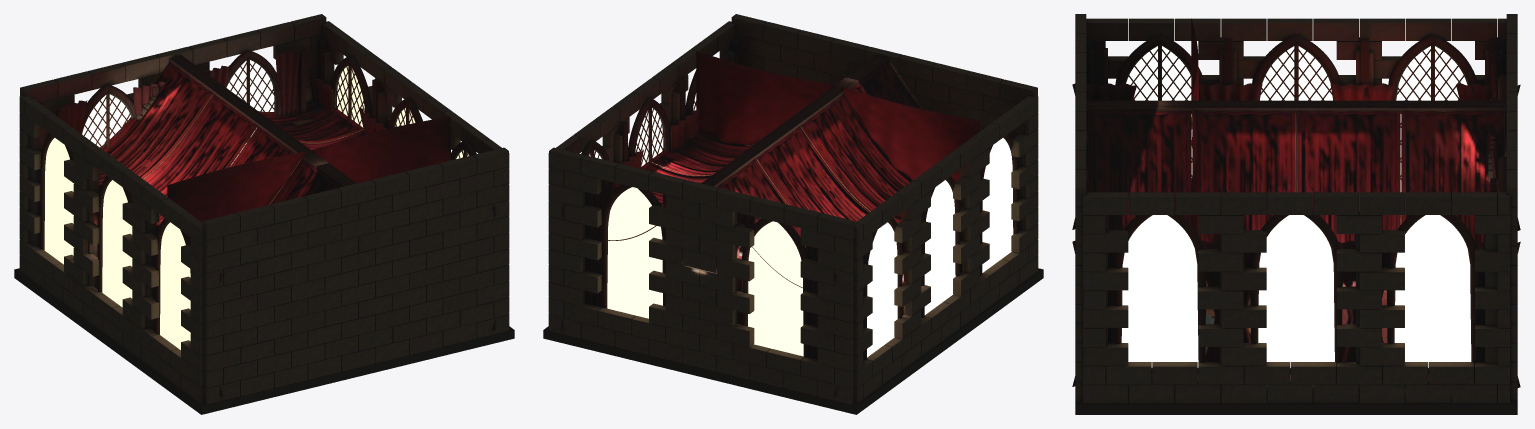
3 renders of one model, left to right at view 1: azimuth 30°, elevation 25°; view 2: azimuth 150°, elevation 25°; view 3: azimuth 270°, elevation 25°, orthographic. The views are drawn at different scales.
Visible parts, largest first — view 1: divination_architecture, divination_textile, divination_glow, divination_floor; view 2: divination_architecture, divination_textile, divination_glow, divination_floor; view 3: divination_architecture, divination_textile, divination_glow, divination_floor.
Boxes of the visible parts, <box> form: divination_architecture: <box>19,14,509,404</box>; divination_textile: <box>54,46,495,397</box>; divination_glow: <box>44,60,468,349</box>; divination_floor: <box>14,268,514,414</box>; divination_architecture: <box>548,14,1038,404</box>; divination_textile: <box>561,51,979,396</box>; divination_glow: <box>589,93,1013,357</box>; divination_floor: <box>543,202,1043,414</box>; divination_architecture: <box>1075,14,1517,403</box>; divination_textile: <box>1072,18,1520,387</box>; divination_glow: <box>1121,46,1471,367</box>; divination_floor: <box>1075,280,1517,414</box>.
Size of the model in its own units: 11.6 by 6.72 by 12.16.
9 materials, 4 textured.
